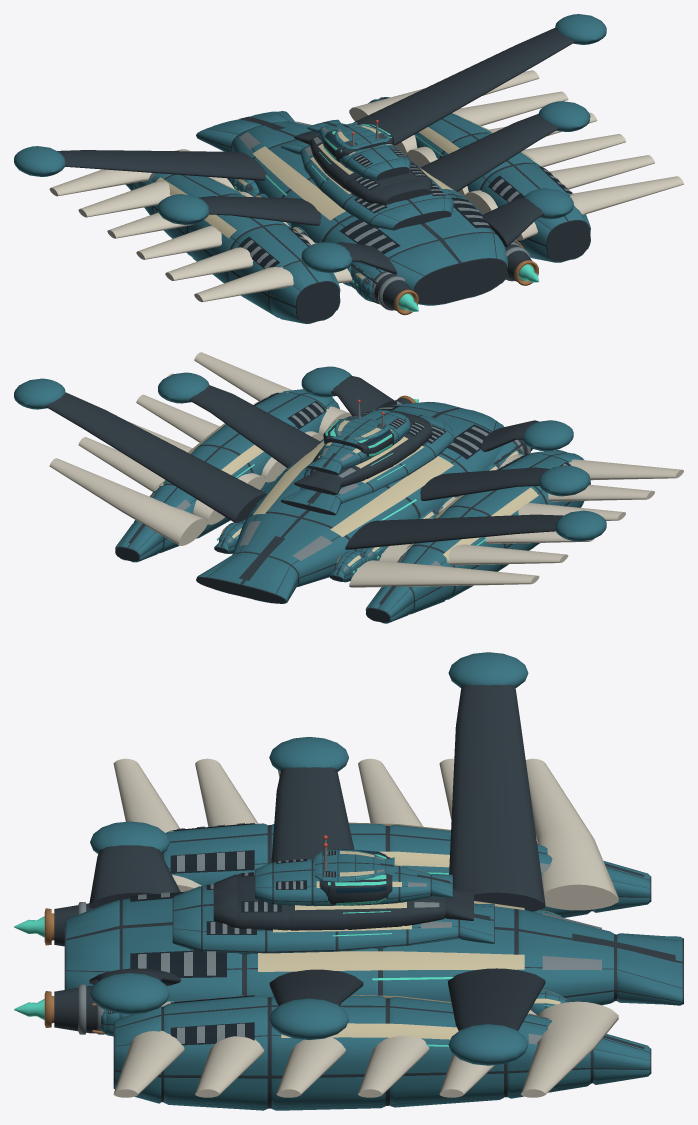
Rendered from ark.glb.
3 renders of one model, top to bottom at view 1: azimuth 30°, elevation 25°; view 2: azimuth 150°, elevation 25°; view 3: azimuth 270°, elevation 25°, orthographic. The views are drawn at different scales.
Visible parts, largest first — view 1: ark; view 2: ark; view 3: ark.
Boxes of the visible parts, <box> form: ark: <box>14,14,683,323</box>; ark: <box>14,352,683,623</box>; ark: <box>14,652,683,1110</box>.
Size of the model in its own units: 117 by 24.06 by 82.24.
